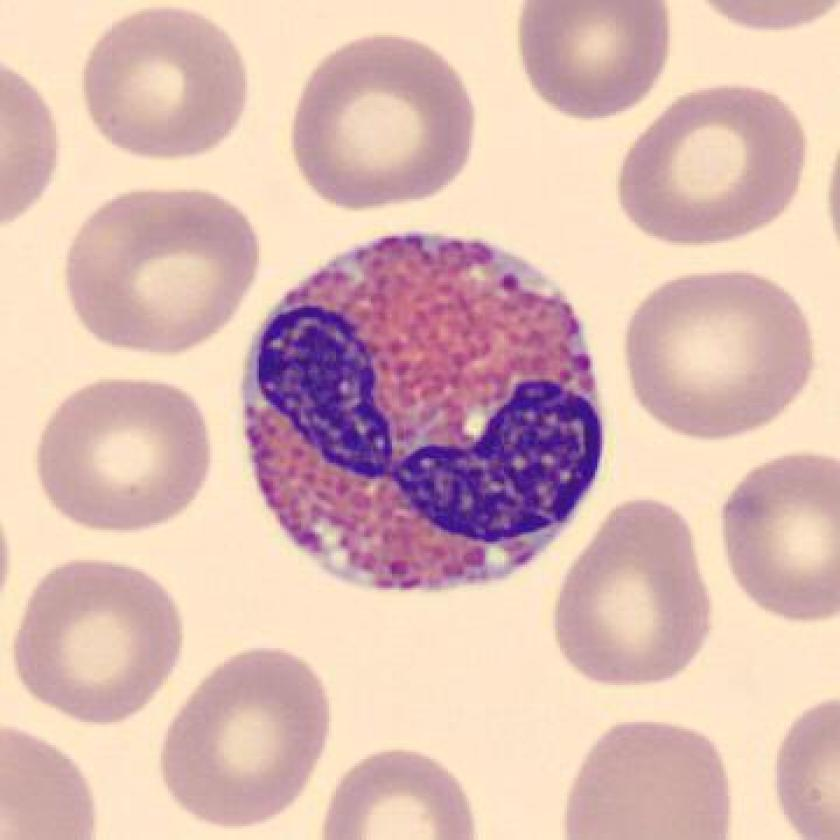eosinophil: (234, 216, 617, 607)
